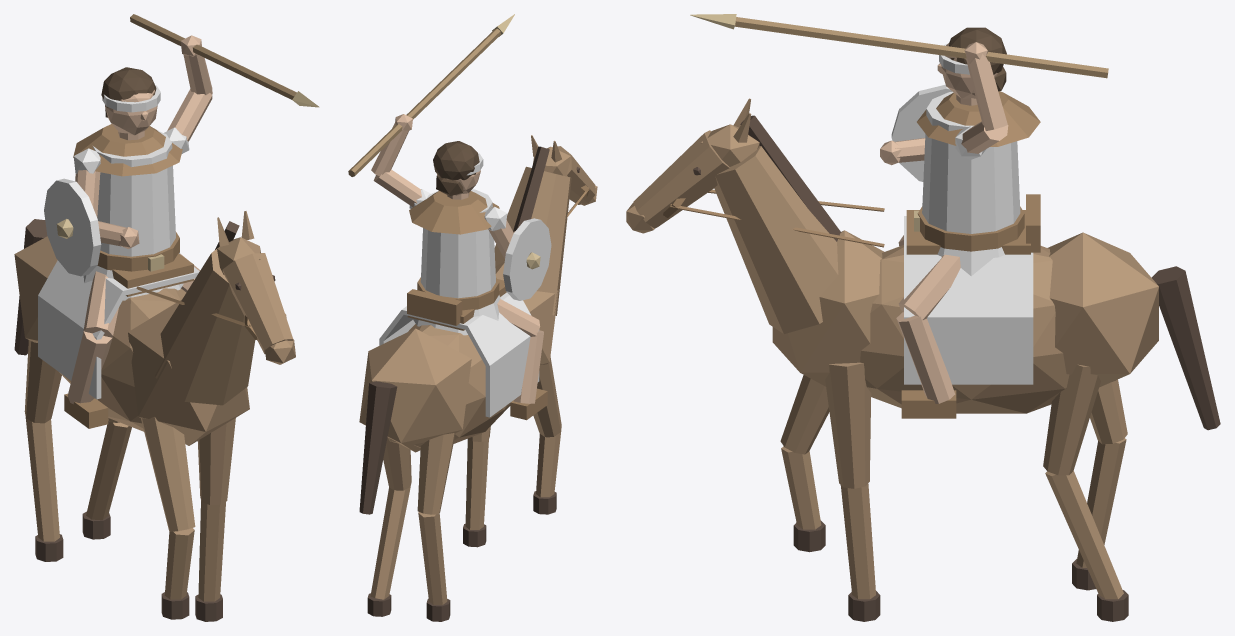
File: civ_unit_horseman.glb
3 views of the same model, side by side, from view 1: azimuth 30°, elevation 25°; view 2: azimuth 150°, elevation 25°; view 3: azimuth 270°, elevation 25° (orthographic). The views are drawn at different scales.
Visible parts, largest first — view 1: civ_unit_horseman; view 2: civ_unit_horseman; view 3: civ_unit_horseman.
Part boxes in pixels (x1,y1,x2,y2): civ_unit_horseman: [14, 14, 319, 621]; civ_unit_horseman: [348, 14, 597, 621]; civ_unit_horseman: [626, 14, 1220, 621].
Bounding box in the file's own units: 0.9019 × 2.74 × 2.39.
